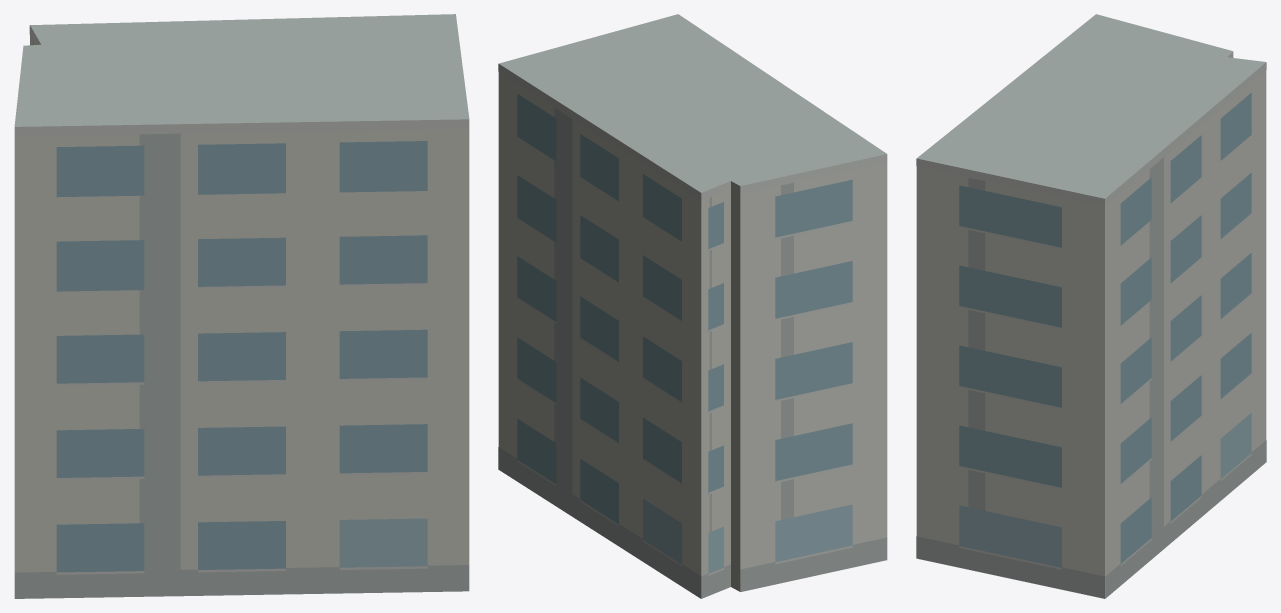
File: survey-upis-32724586.glb
3 renders of one model, left to right at view 1: azimuth 30°, elevation 25°; view 2: azimuth 150°, elevation 25°; view 3: azimuth 270°, elevation 25°, orthographic. The views are drawn at different scales.
Visible parts, largest first — view 1: survey-upis-32724586.tmp; view 2: survey-upis-32724586.tmp; view 3: survey-upis-32724586.tmp.
Boxes of the visible parts, x1,y1,x2,y2 form: survey-upis-32724586.tmp: (14,14,469,598); survey-upis-32724586.tmp: (498,14,887,598); survey-upis-32724586.tmp: (916,14,1266,598).
Bounding box in the file's own units: 12 × 12.1 × 9.6.
